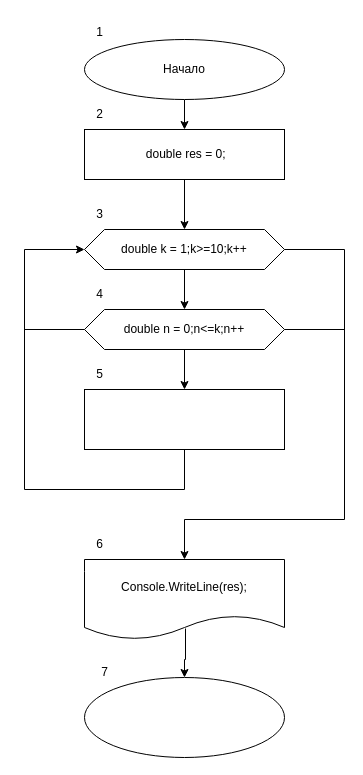
The diagram is 363 pixels wide and 775 high, and some of its shapes have lost their labels. Here are the shapes that lost their labels. From the top down, the centre of each, then its label:
At point (184, 419): "res = res + Math.Tan(n * k)/k;".
At point (184, 717): "Конец".
